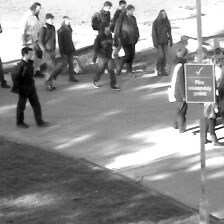person: (14, 44, 47, 128), (92, 21, 121, 88), (24, 2, 46, 80), (171, 48, 191, 133), (151, 8, 174, 77), (119, 4, 139, 79), (38, 12, 57, 90), (56, 15, 78, 82), (204, 70, 223, 147), (91, 1, 113, 63), (113, 1, 126, 31)
